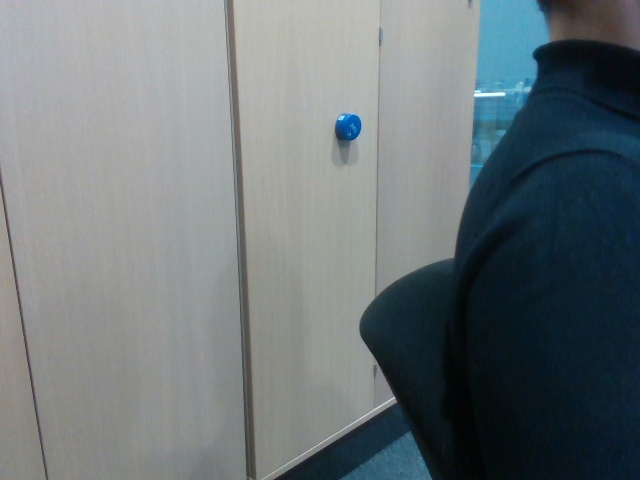alfa: (335, 111, 362, 142)
